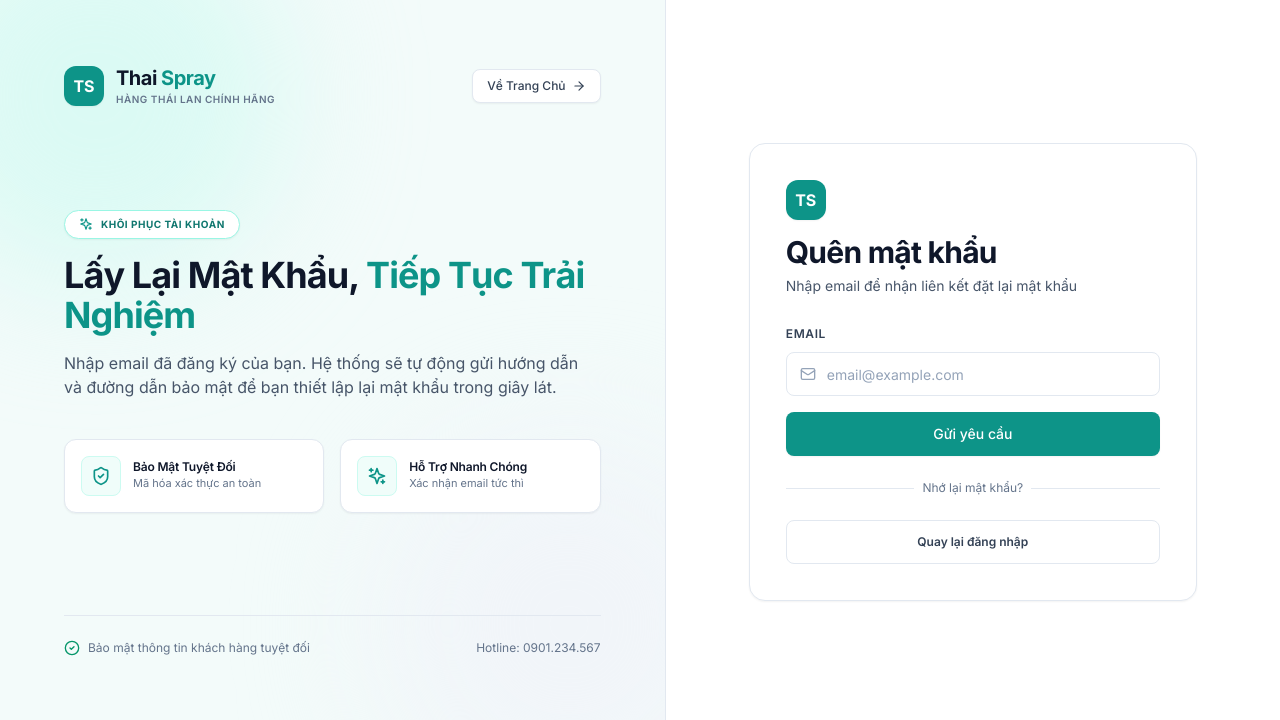
Test case: ForgotPasswordPage › clears existing success message on a subsequent submit attempt
In the field labelled "Email": (973, 374) [786,352,1160,396], type "user@example.com"
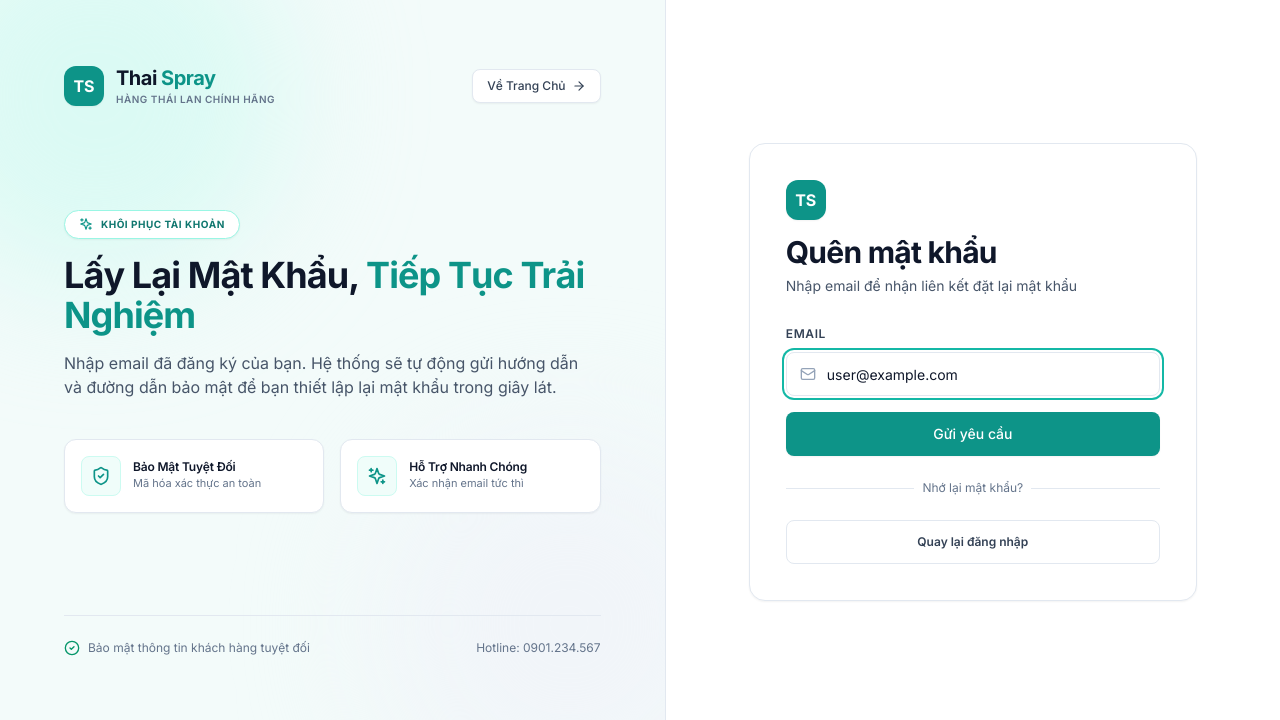
Click the button "Gửi yêu cầu": (973, 434) [786,412,1160,456]
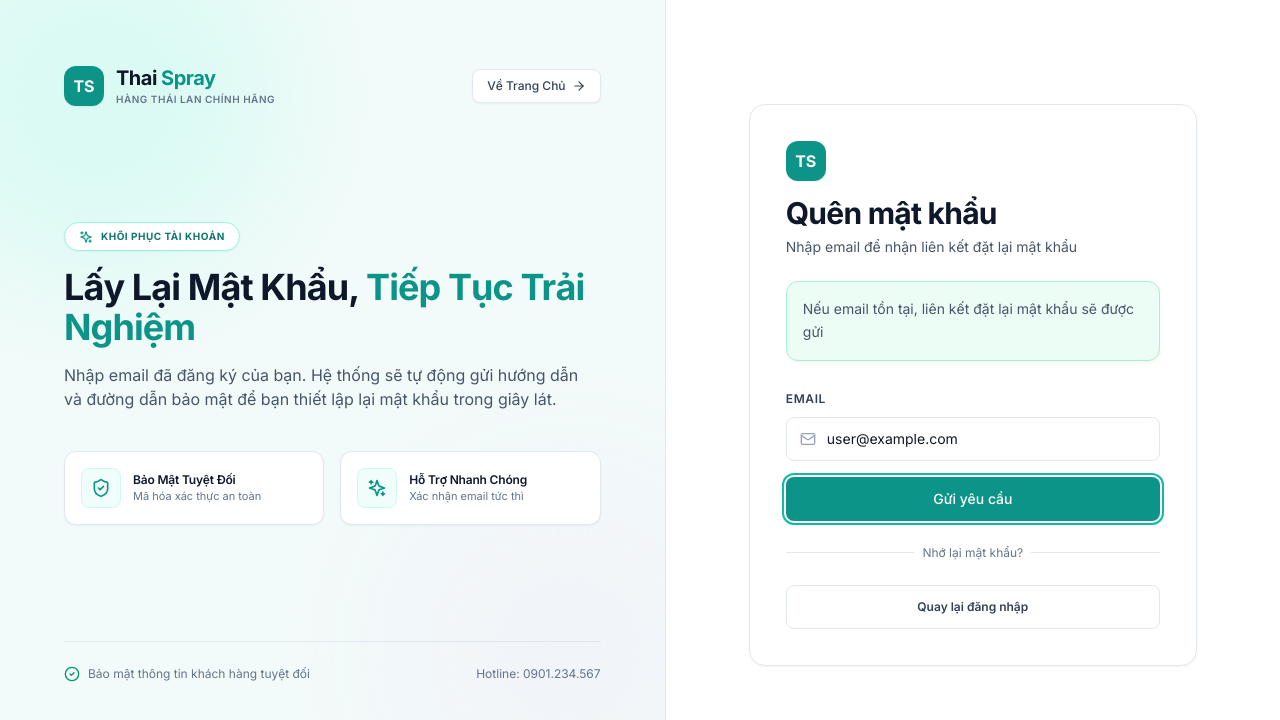
Expected: the text "Nếu email tồn tại, liên kết đặt lại mật khẩu sẽ được gửi" is shown, [803,298,1143,344]
Second submit without triggering onSuccess
Replace the text in the field labelled "Email" with "other@example.com": (973, 438) [786,416,1160,460]
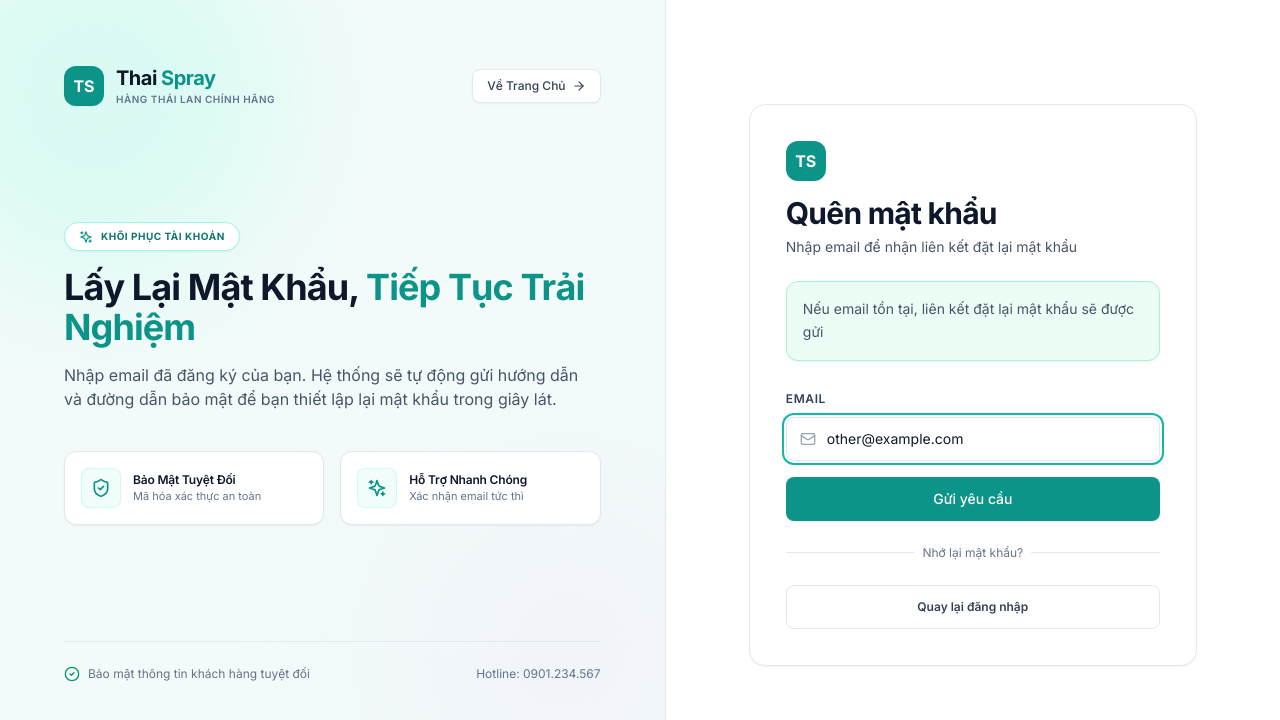
Click the button "Gửi yêu cầu": (973, 498) [786,476,1160,520]
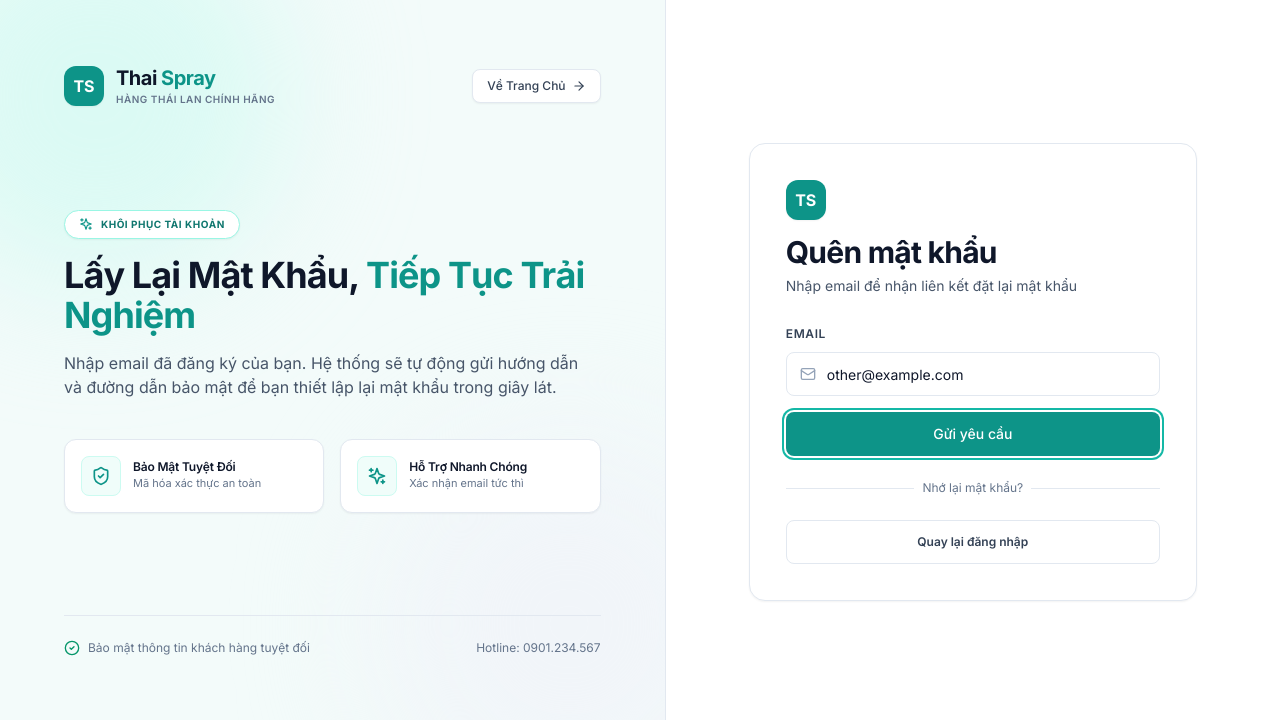
Expected: the text "Nếu email tồn tại, liên kết đặt lại mật khẩu sẽ được gửi" is gone
